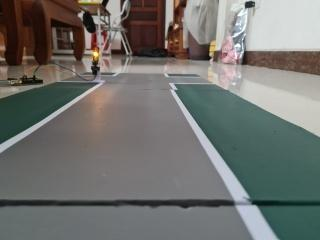yellow: (88, 41, 103, 67)
